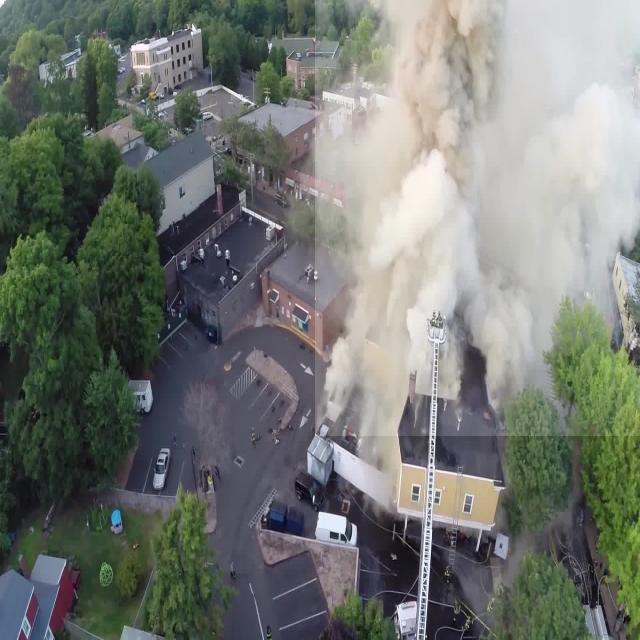Smoke: (315, 0, 640, 436)
